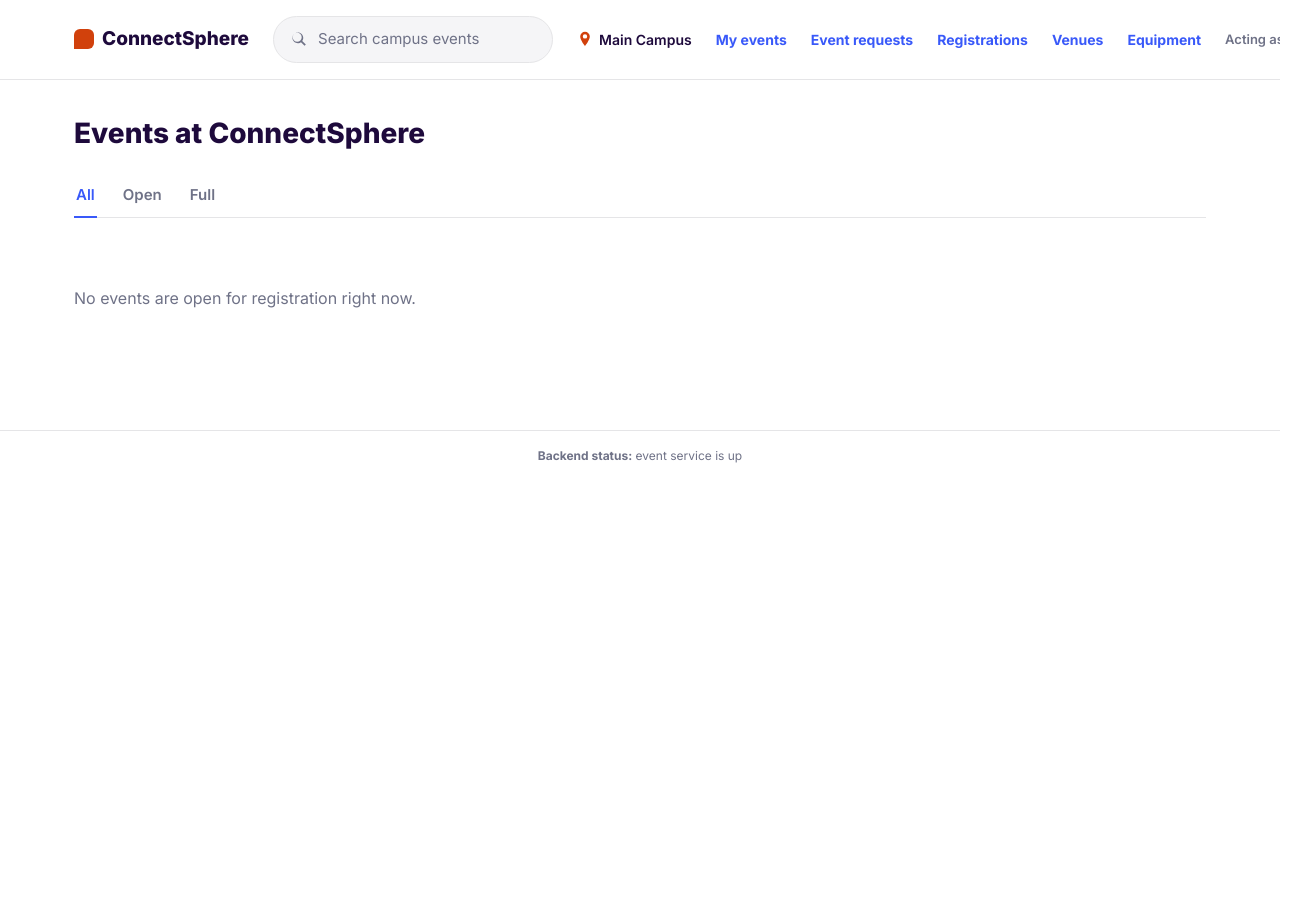
venue calendar (US21) › TC-US21-16: isn't on Venues for the organiser (AC 5)
Click the button "Venues": {"x": 1078, "y": 39} [1052,29,1104,50]
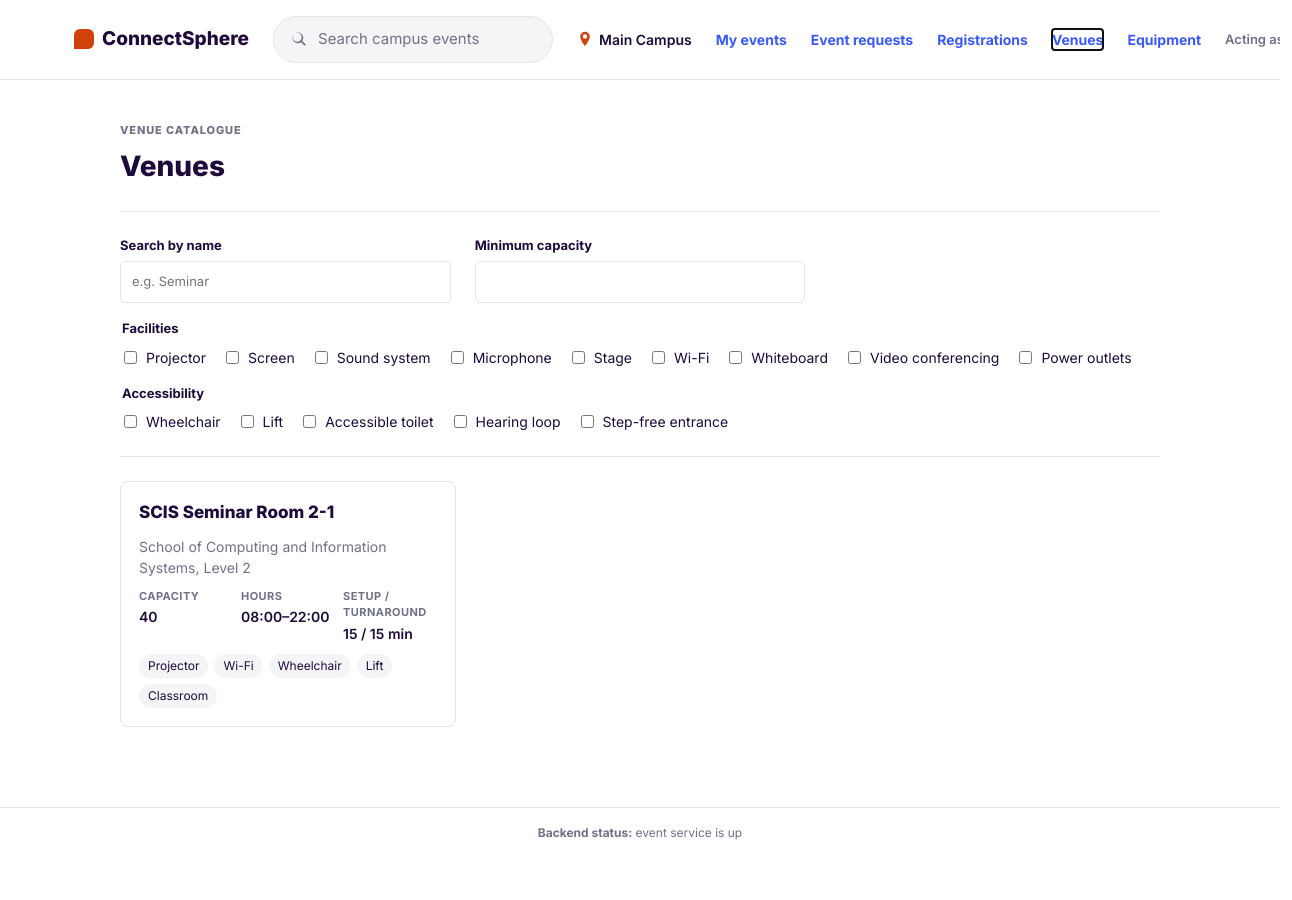
Result: the heading "Venues" is shown at [120,144,242,186]
Result: the list named "Venues" is shown at [120,481,456,726]
